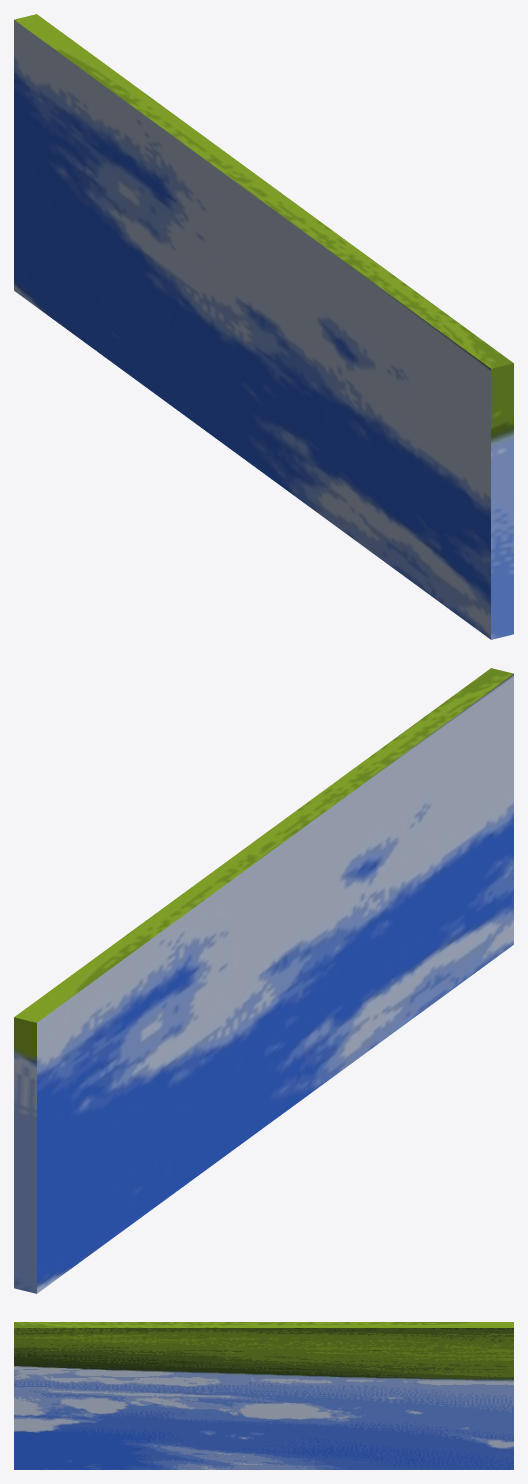
Rendered from firstLevelRightWall.fbx.
3 views of the same model, one above another, from view 1: azimuth 30°, elevation 25°; view 2: azimuth 150°, elevation 25°; view 3: azimuth 270°, elevation 25° (orthographic). The views are drawn at different scales.
Visible parts, largest first — view 1: Wall_Right; view 2: Wall_Right; view 3: Wall_Right.
Boxes of the visible parts, x1,y1,x2,y2 form: Wall_Right: (14, 14, 513, 639); Wall_Right: (14, 668, 513, 1293); Wall_Right: (14, 1322, 513, 1469).
Size of the model in its own units: 209 by 2362 by 7535.
